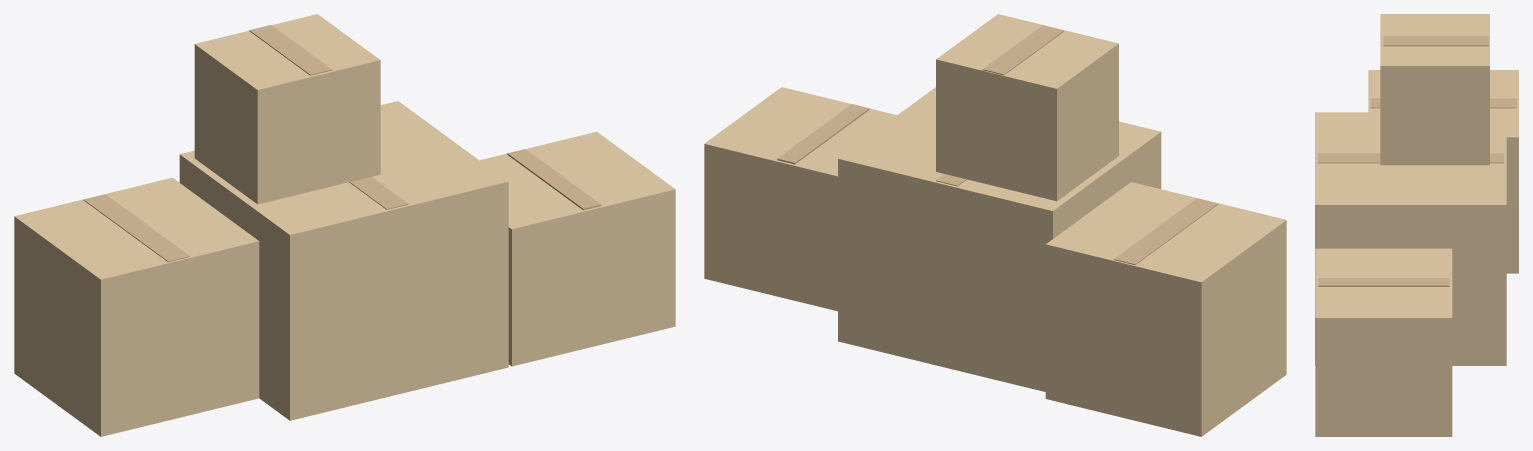
Rendered from 02_cardboard_boxes_2.glb.
The picture shows the model from 3 angles, left to right: view 1: azimuth 30°, elevation 25°; view 2: azimuth 150°, elevation 25°; view 3: azimuth 270°, elevation 25°; orthographic projection. The views are drawn at different scales.
Parts seen in each view (by area): view 1: part_1, part_3, part_5, part_7, part_4, part_6, part_8, part_2; view 2: part_1, part_3, part_7, part_5, part_4, part_6, part_8; view 3: part_1, part_5, part_7, part_3, part_6, part_8, part_2, part_4.
Boxes of the visible parts, box(x1,y1,x2,y2) form: part_1: box(179, 101, 508, 420); part_3: box(14, 177, 259, 436); part_5: box(480, 131, 675, 366); part_7: box(194, 14, 380, 204); part_4: box(83, 194, 189, 262); part_6: box(507, 149, 601, 210); part_8: box(249, 25, 332, 75); part_2: box(349, 176, 408, 209); part_1: box(838, 87, 1161, 391); part_3: box(1045, 182, 1286, 436); part_7: box(936, 14, 1118, 201); part_5: box(704, 87, 896, 311); part_4: box(1114, 198, 1218, 264); part_6: box(777, 104, 869, 164); part_8: box(982, 25, 1063, 75); part_1: box(1315, 112, 1506, 365); part_5: box(1315, 248, 1452, 436); part_7: box(1380, 14, 1489, 165); part_3: box(1368, 70, 1518, 273); part_6: box(1318, 278, 1449, 286); part_8: box(1383, 36, 1488, 46); part_2: box(1317, 153, 1503, 163); part_4: box(1370, 98, 1516, 108).
Bounding box in the file's own units: 1.99 × 1.06 × 0.745.
